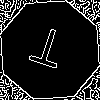T: (25, 25, 68, 78)
